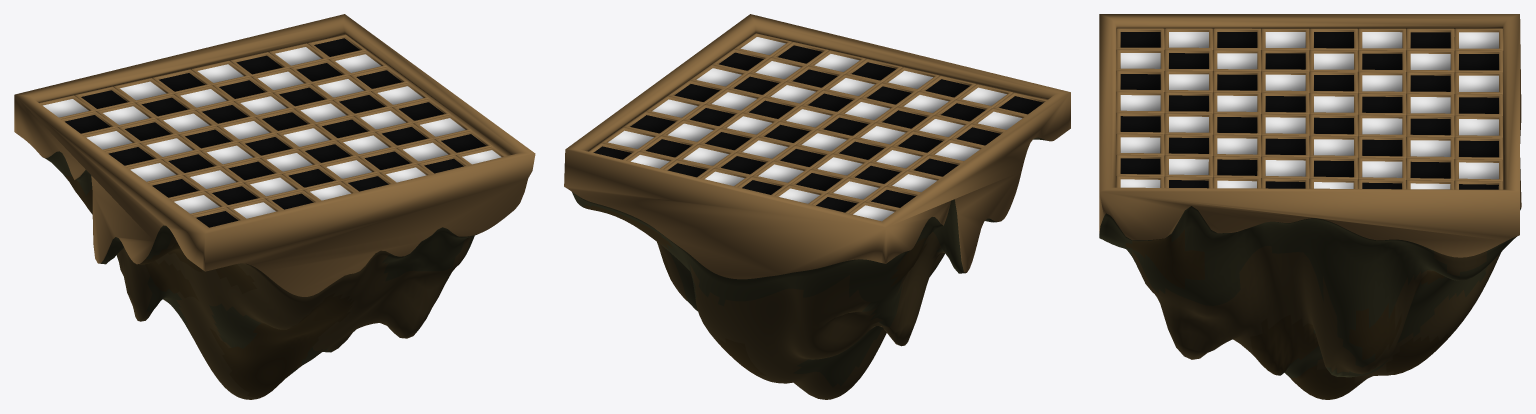
Rendered from echiquier.glb.
The picture shows the model from 3 angles, left to right: view 1: azimuth 30°, elevation 25°; view 2: azimuth 150°, elevation 25°; view 3: azimuth 270°, elevation 25°; orthographic projection. The views are drawn at different scales.
Visible parts, largest first — view 1: Plane; view 2: Plane; view 3: Plane.
Part boxes in pixels (box(x1,y1,x2,y2)): Plane: box(14, 14, 535, 399); Plane: box(564, 14, 1070, 399); Plane: box(1099, 14, 1521, 399).
Bounding box in the file's own units: 22.88 × 17.43 × 21.96.
